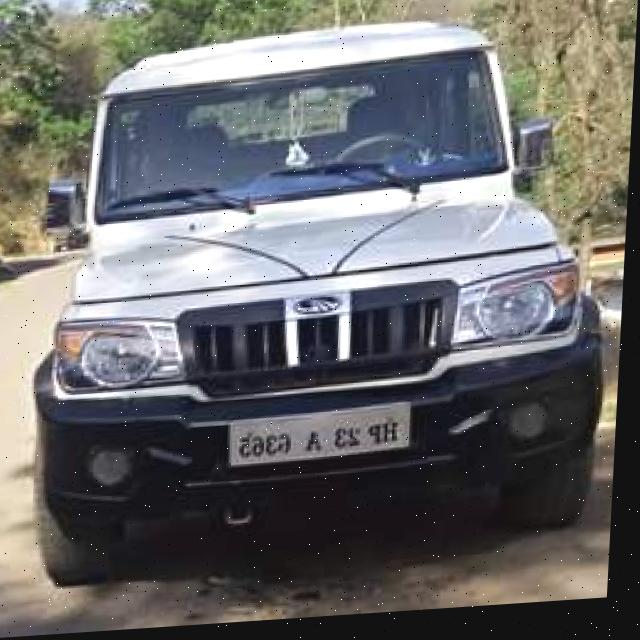plate: (229, 404, 418, 474)
